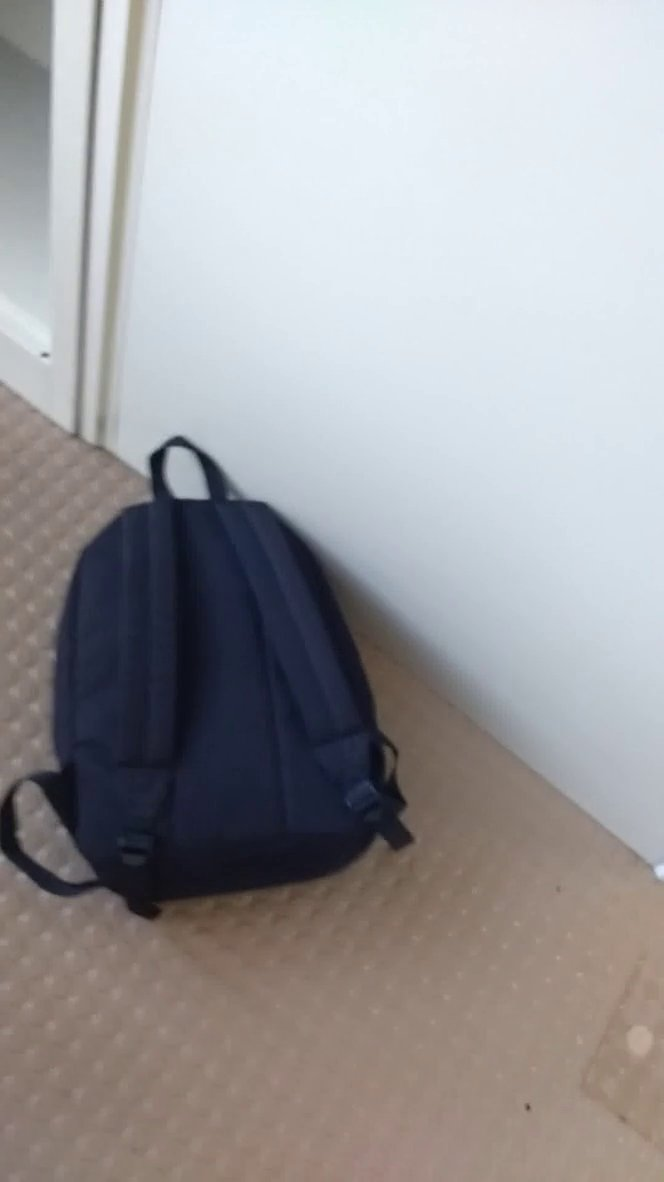bag: (1, 386, 440, 936)
